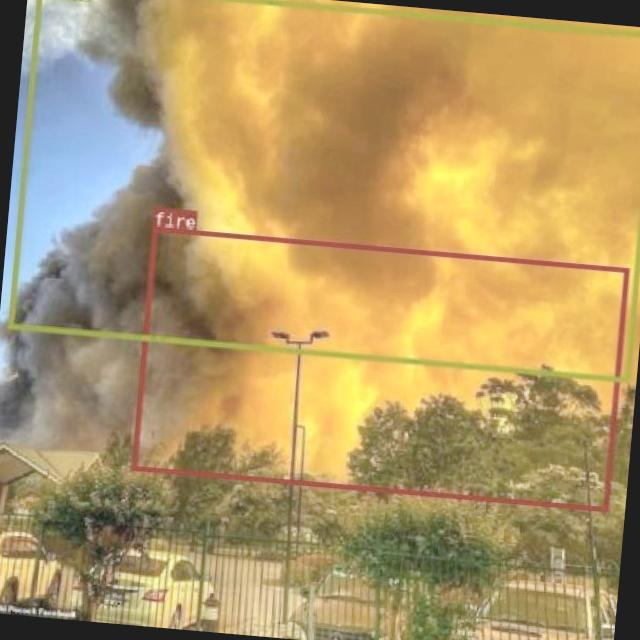fire: (130, 225, 628, 511)
smoke: (7, 0, 640, 381)
